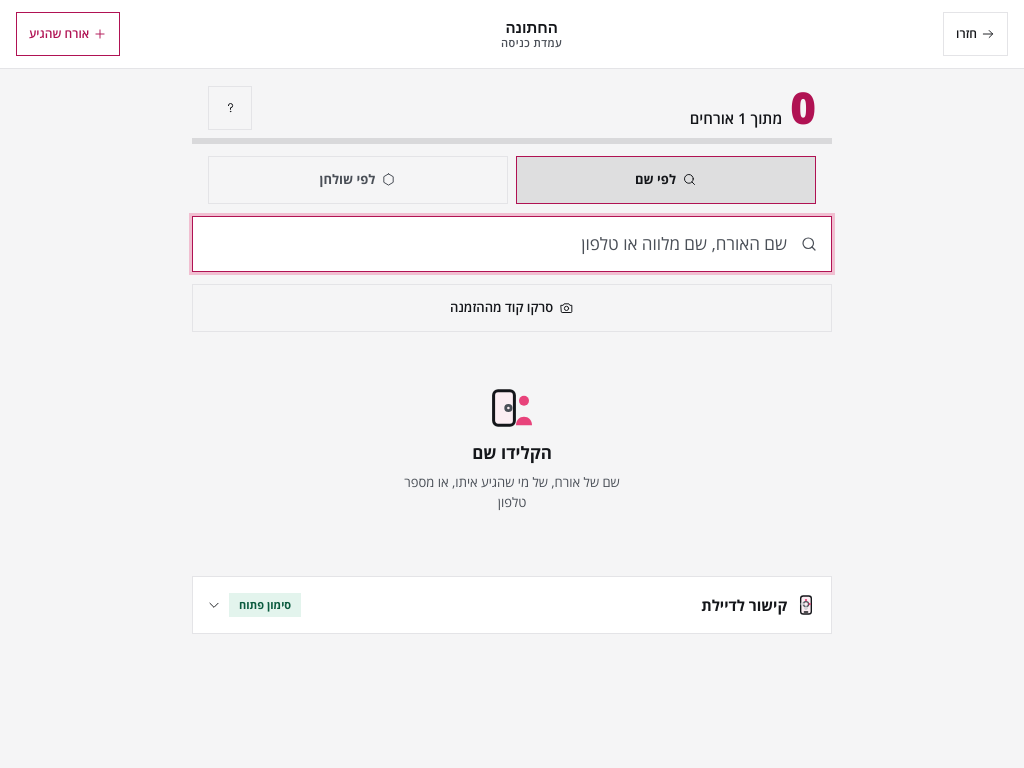
door — free seats › walk-in sheet: counts the tables with room past the twelve it shows
This screenshot has width=1024, height=768.
Click the tab "לפי שולחן" at (358, 180), box [208,156,508,204]
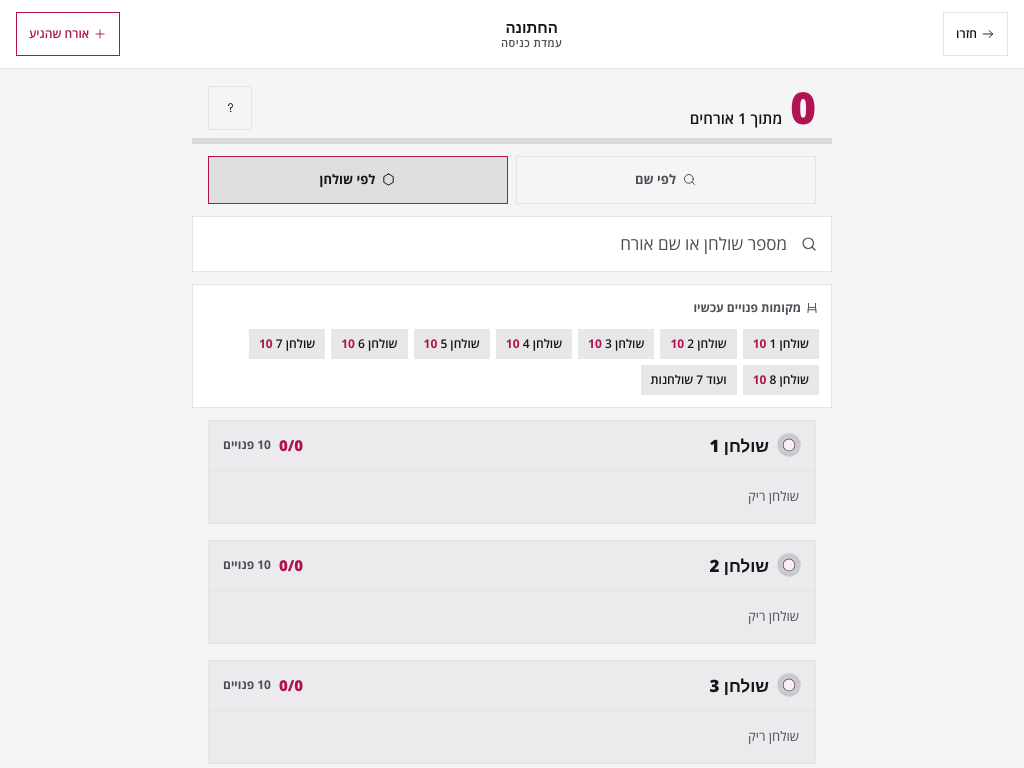
Click the button "אורח שהגיע" at (68, 34), box [16,12,120,56]
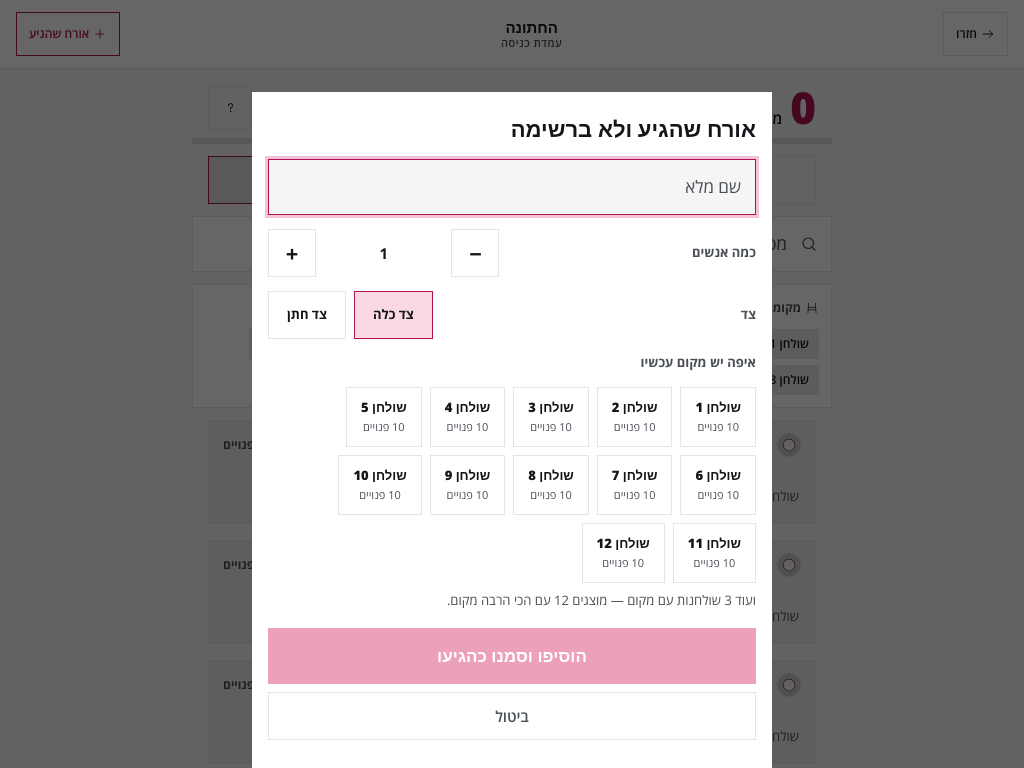
Expected: the text "ועוד 3 שולחנות עם מקום — מוצגים 12 עם הכי הרבה מקום." is shown, [447,590,756,610]
